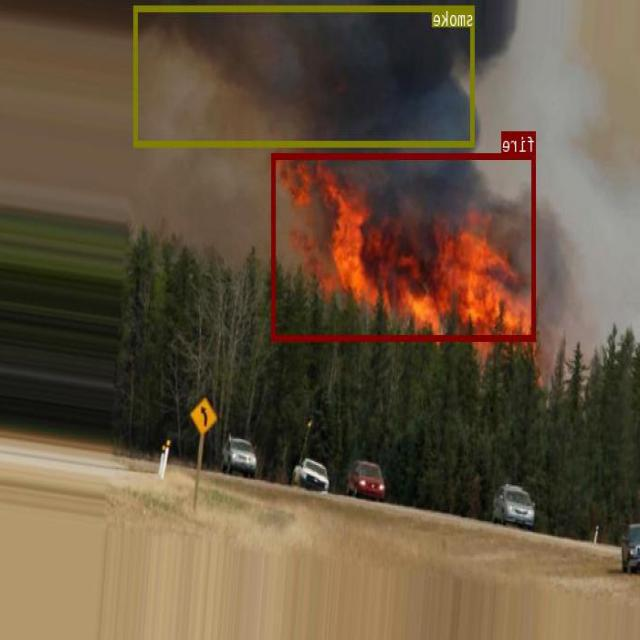fire: (273, 152, 536, 340)
smoke: (134, 5, 475, 146)
